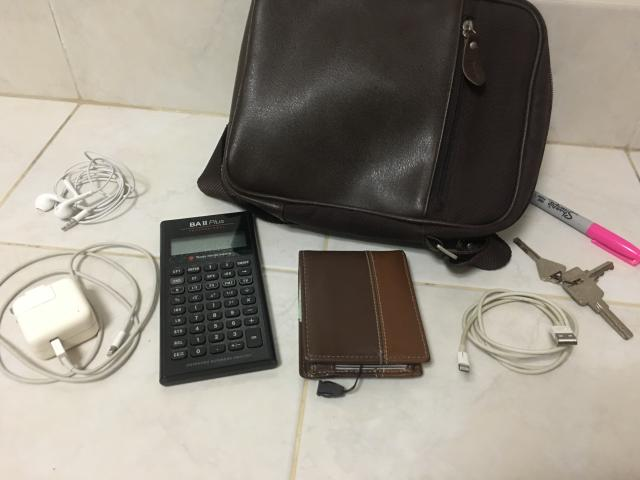Keys: (514, 238, 632, 340)
Pen: (530, 191, 640, 265)
Wallet: (299, 250, 430, 379)
wire: (0, 241, 159, 384), (458, 289, 579, 374), (35, 151, 135, 230)
